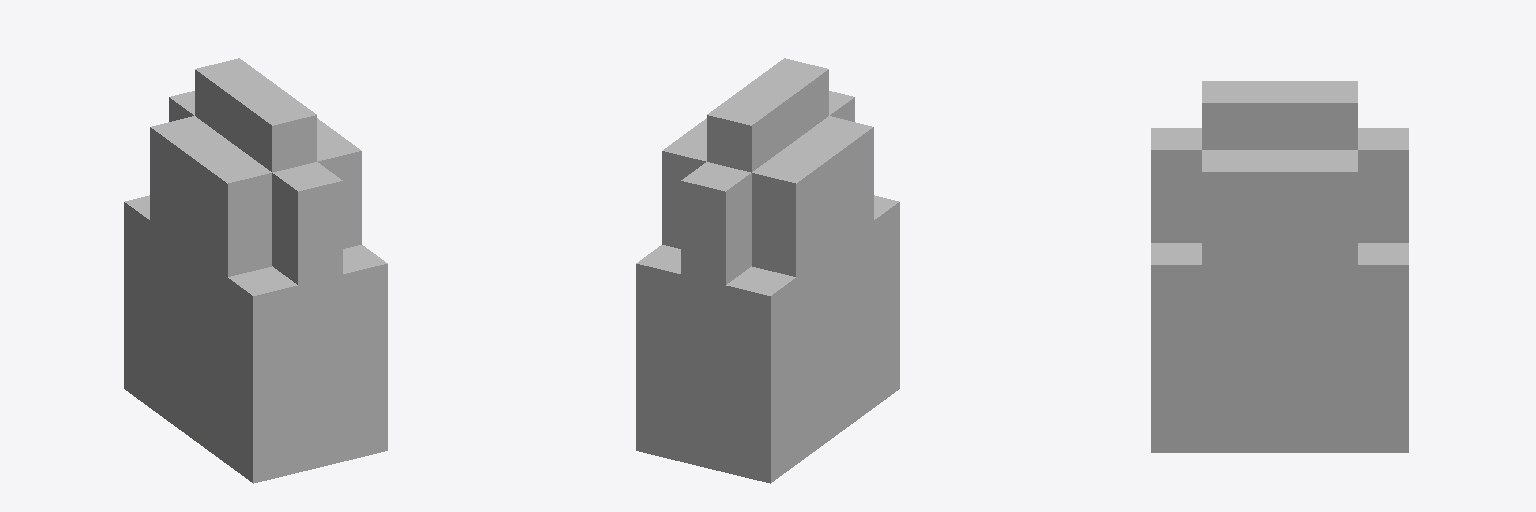
Rendered from arm2.obj.
The picture shows the model from 3 angles: view 1: azimuth 30°, elevation 25°; view 2: azimuth 150°, elevation 25°; view 3: azimuth 270°, elevation 25°; orthographic projection.
Size of the model in its own units: 3 by 7 by 5.